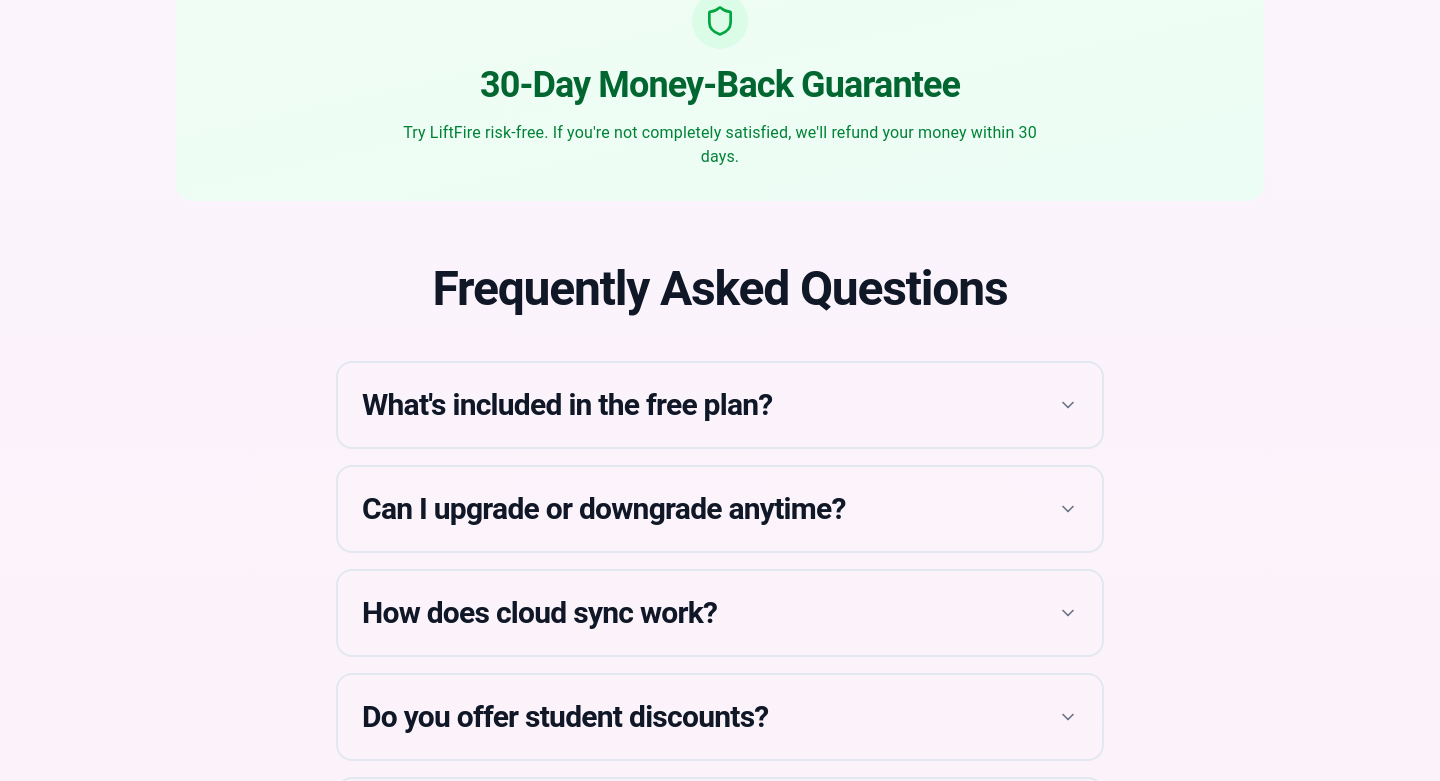
it: PricingPage › expands and collapses FAQ items
(page scrolled)
Expected: the text "The free plan includes access to our complete exercise database" is not shown
// Click to expand
What coordinates should you click on to do the following:
click the button "What's included in the free plan?"
I would click on:
 (720, 405)
Its box is [362,387,1078,423].
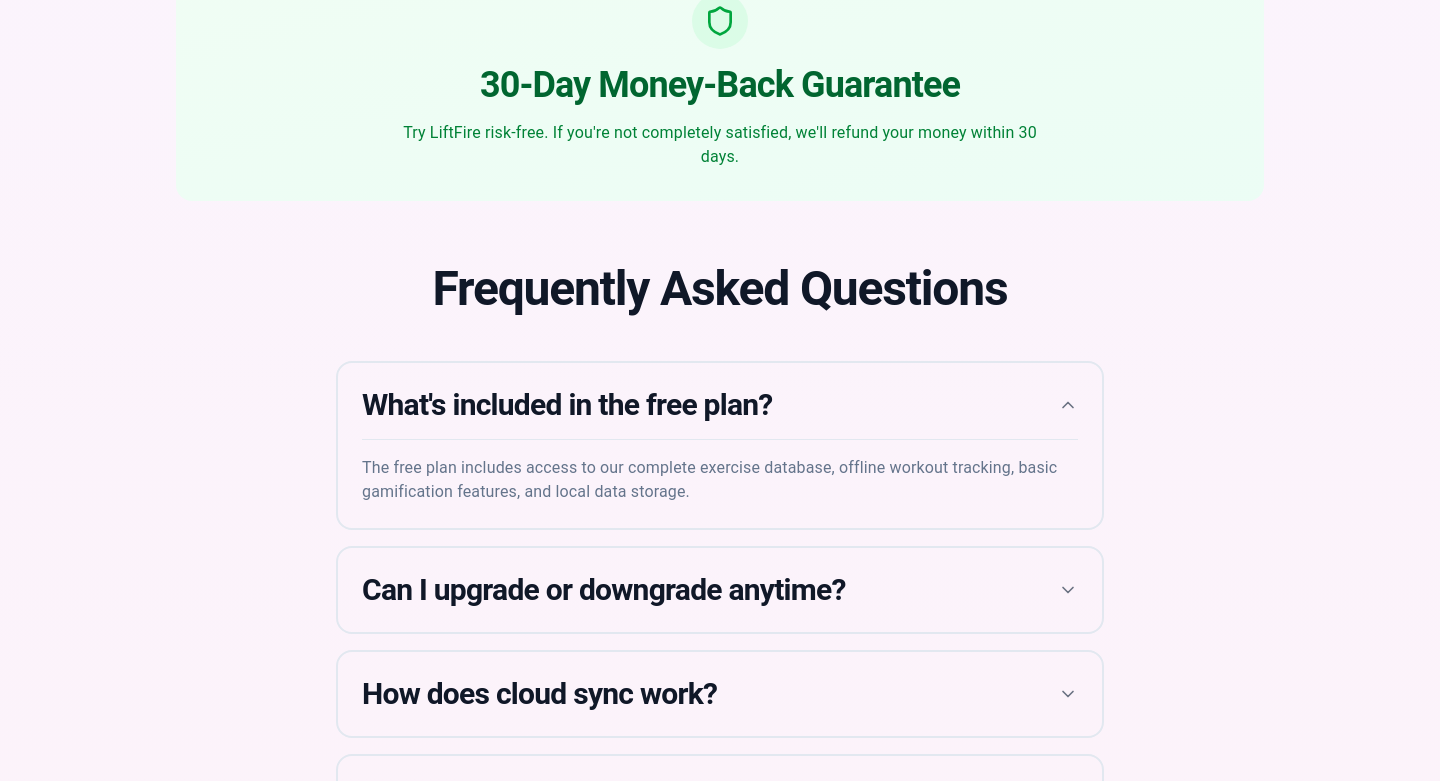
Expected: the text "The free plan includes access to our complete exercise database, offline workout tracking, basic gamification features, " is shown, [362,458,1057,501]
// Click again to collapse
What coordinates should you click on to do the following:
click the button "What's included in the free plan?"
I would click on:
 (720, 405)
Its box is [362,387,1078,423].
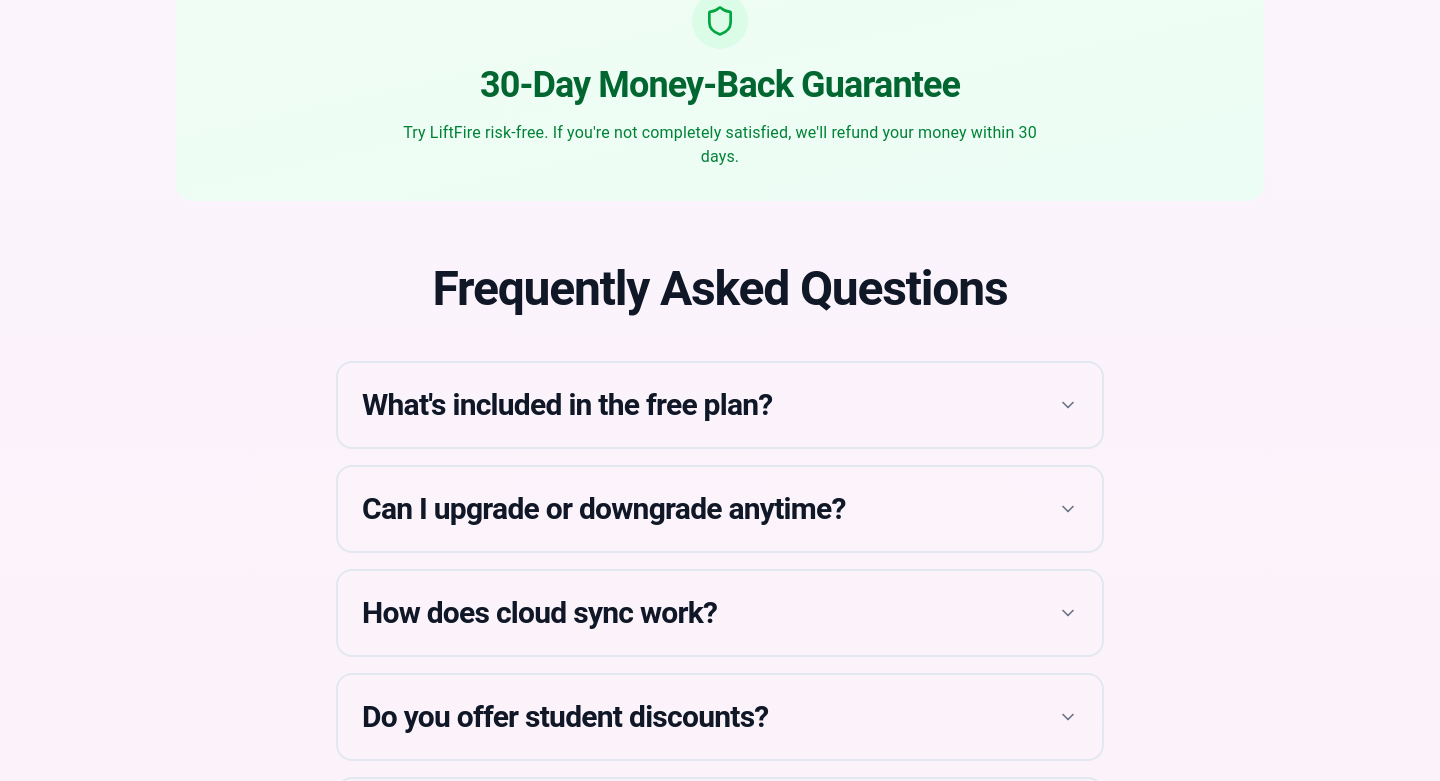
Expected: the text "The free plan includes access to our complete exercise database" is gone
